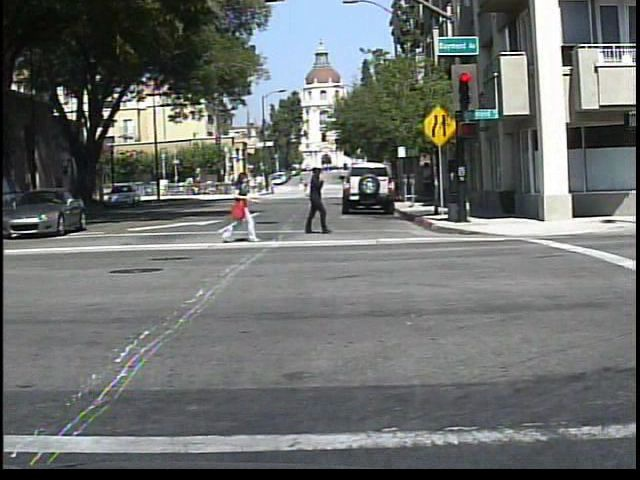person: (220, 167, 261, 243), (297, 164, 337, 238), (263, 175, 281, 197), (300, 176, 315, 196)
